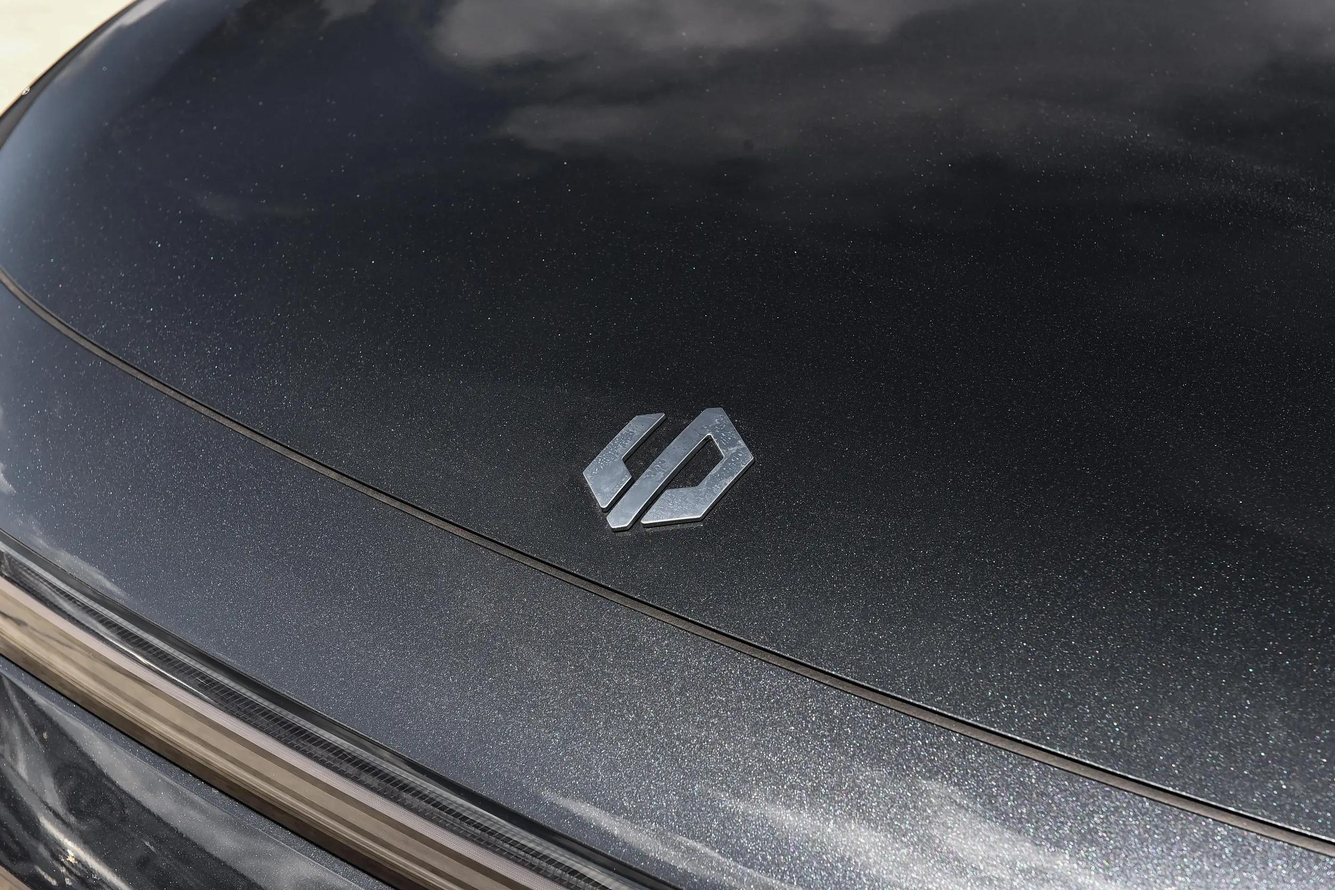LEAPMOTOR: (580, 407, 755, 534)
